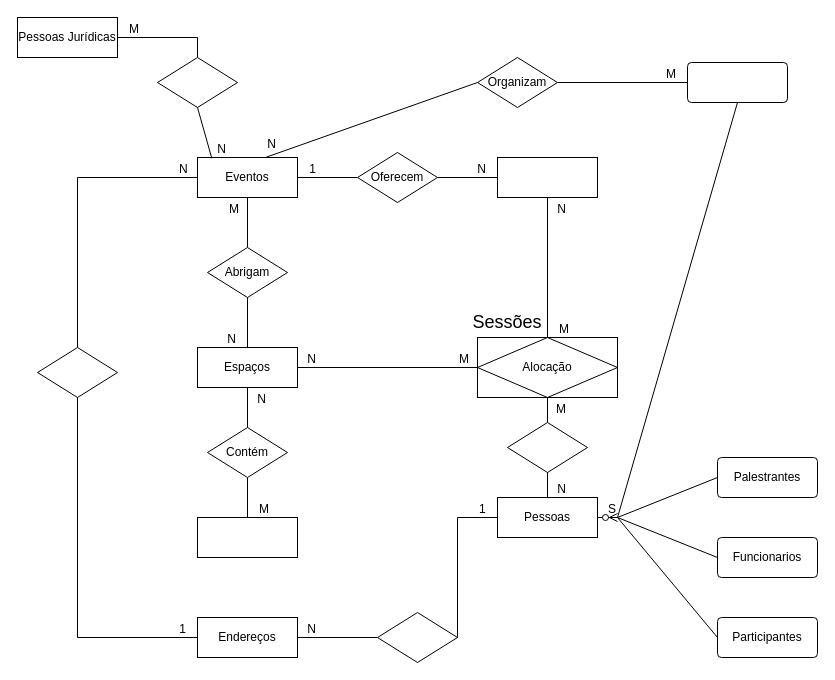
This 835x680 diagram has some shape labels left out. Here are the shapes that lost their labels. From the top down, the box of each, then its label:
(156, 56, 238, 108): Patrocinam
(686, 62, 788, 102): Organizadores
(496, 156, 598, 198): Atividades
(36, 346, 118, 398): Sediado
(506, 422, 588, 472): Participam
(196, 516, 298, 558): Recursos
(376, 612, 458, 662): Moram
